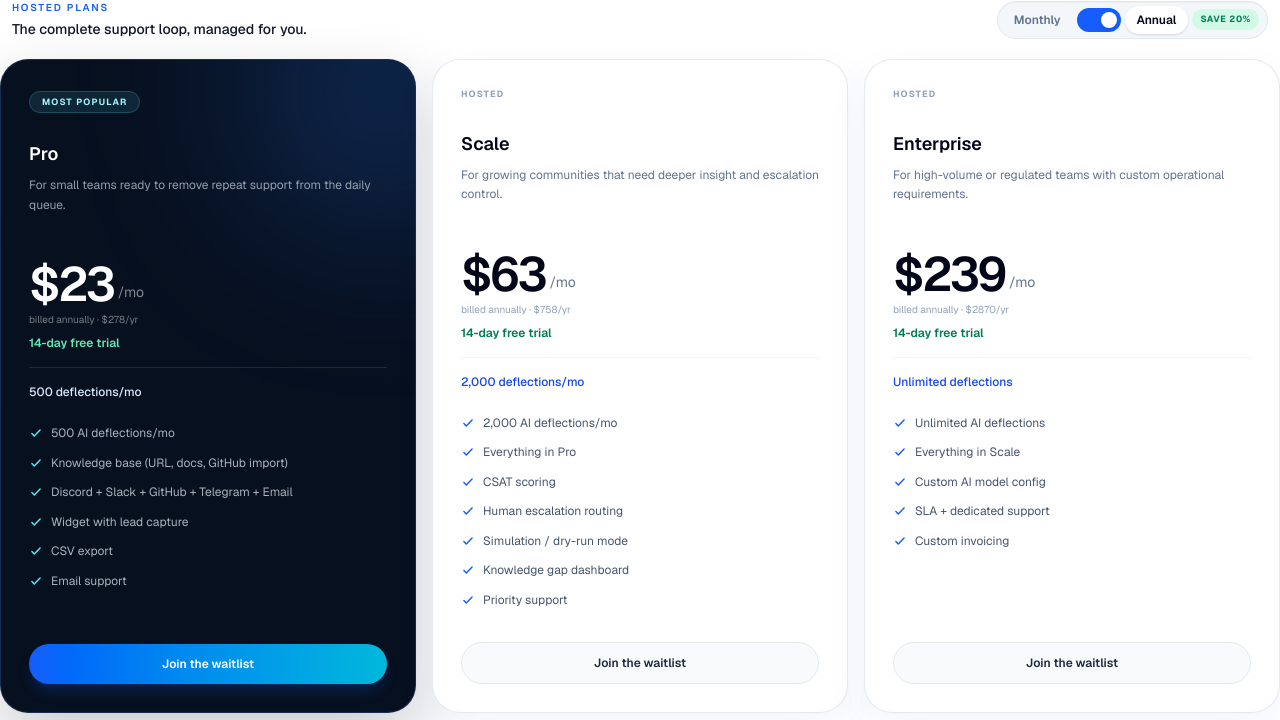
PricingToggle › switches to full monthly pricing when toggled off
The image size is (1280, 720).
Click the switch at coordinates (1098, 20), box top-left (1076, 8), bottom-right (1120, 32)
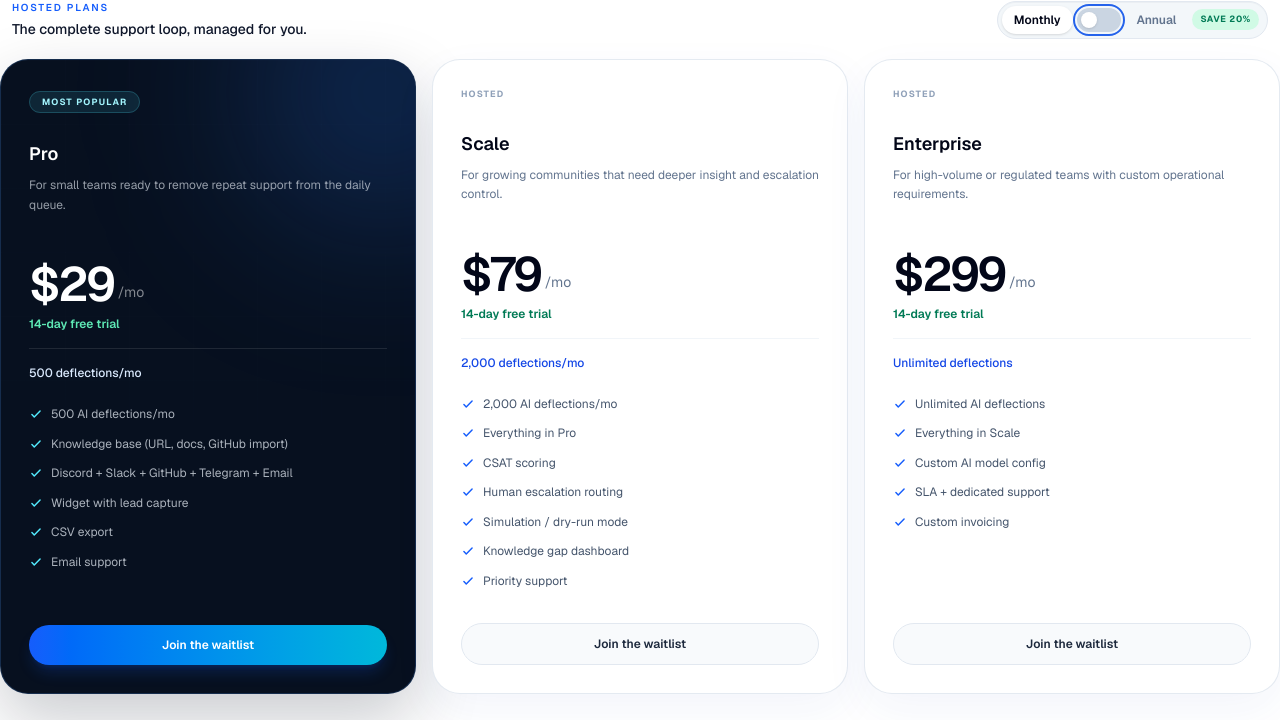
Expected: the text "$29" is shown, top-left (29, 260), bottom-right (114, 308)
Expected: the text "billed annually" is gone
